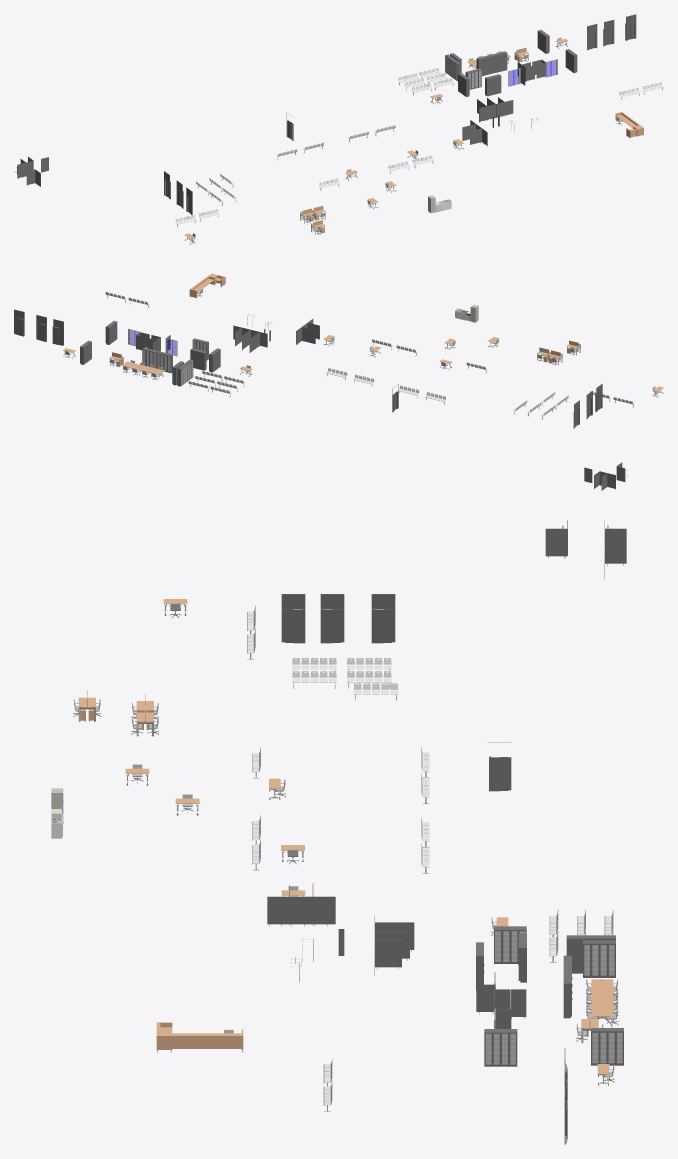
Rendered from F4_jiaju.glb.
The picture shows the model from 3 angles, top to bottom: view 1: azimuth 30°, elevation 25°; view 2: azimuth 150°, elevation 25°; view 3: azimuth 270°, elevation 25°; orthographic projection. The views are drawn at different scales.
Parts seen in each view (by area): view 1: jjxt-1 [1914892]; view 2: jjxt-1 [1914892]; view 3: jjxt-1 [1914892], 1300 [1421864], 1300 [1421865], 1300 [1421866].
Part boxes in pixels (x1,y1,x2,y2): jjxt-1 [1914892]: (615,112,643,139); jjxt-1 [1914892]: (189,273,225,299); jjxt-1 [1914892]: (156,1022,243,1052); 1300 [1421864]: (371,594,395,643); 1300 [1421865]: (320,594,344,643); 1300 [1421866]: (281,594,305,643).
Bounding box in the file's own units: 77.04 × 2.9 × 31.51.
Materials: 16 (3 with a texture image).
